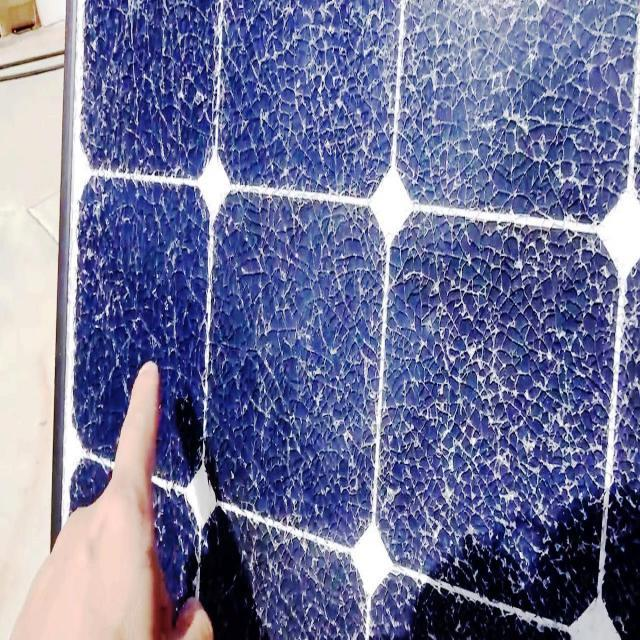faulty: (68, 2, 639, 640)
